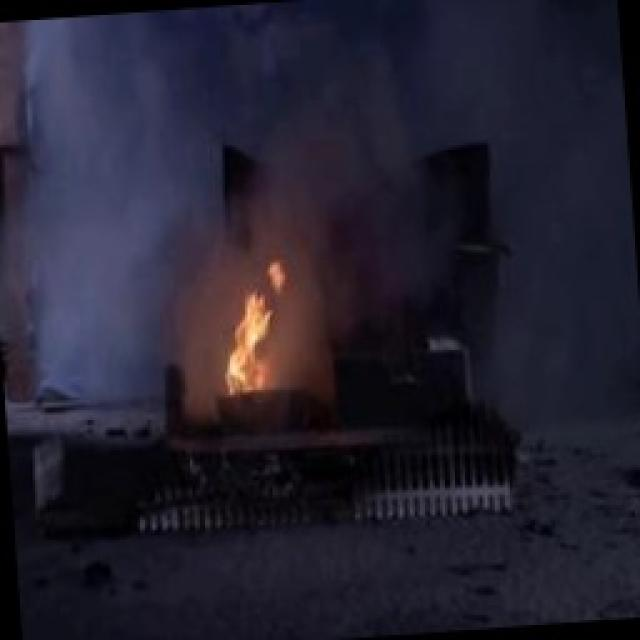fire: (201, 261, 304, 411)
smoke: (14, 0, 588, 275)
